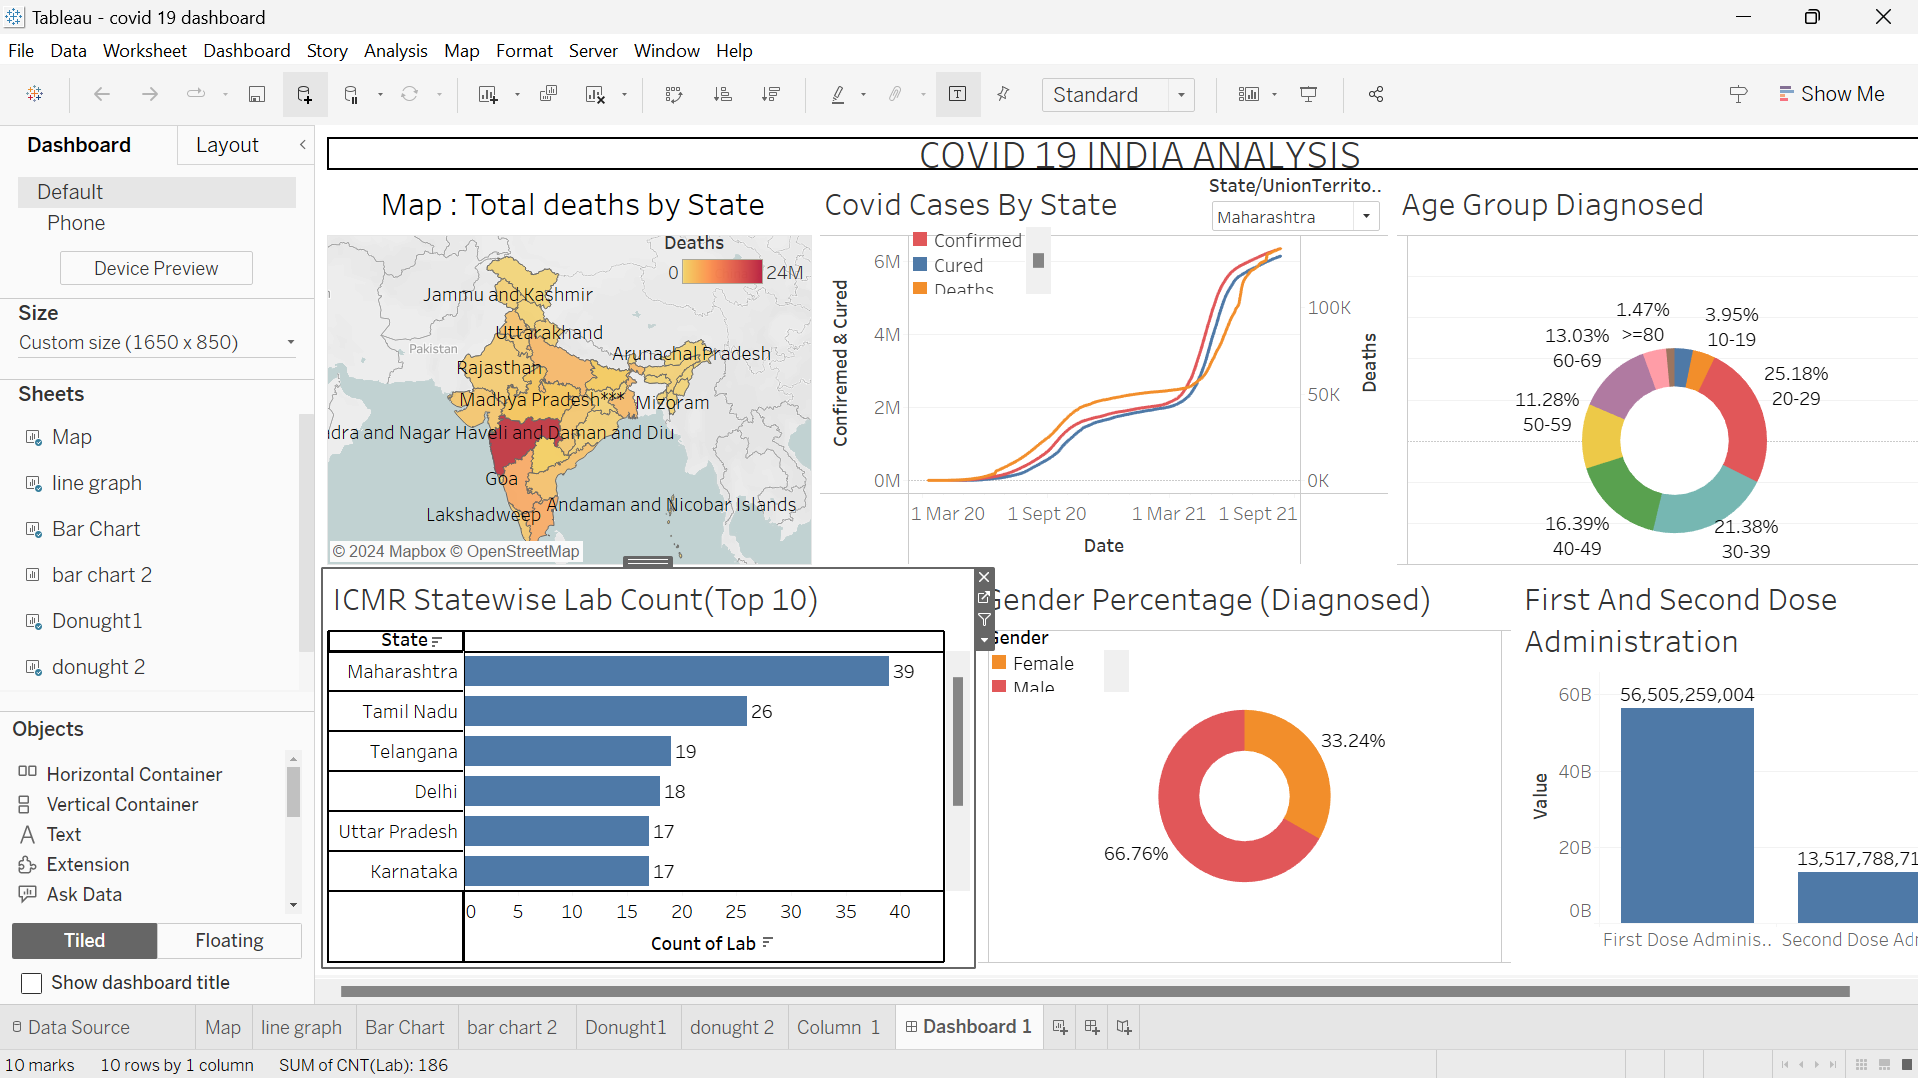

Layout of this report page (visuals, bound fields, positions):
{"tool":"tableau","page":{"name":"Dashboard 1","canvas":[1650,850],"ordinal":0},"visuals":[{"type":"title","box":[8,8,1634,41]},{"type":"filter","title":"line graph","param":"[federated.126jqgq0ev86vi1f24e5f19d8j1v].[none:State/UnionTerritory:nk]","box":[894,47,174,65]},{"type":"worksheet","title":"Map","mark":"Automatic","box":[8,49,492.5,394.6]},{"type":"worksheet","title":"line graph","mark":"Automatic","rows":["Deaths"],"cols":["Date"],"box":[500.5,49,577.5,394.6]},{"type":"worksheet","title":"Donught1","mark":"Pie","rows":["Calculation_1310266029302677515","Calculation_1310266029329895446"],"box":[1078,49,564,394.6]},{"type":"legend","title":"line graph","param":"[federated.126jqgq0ev86vi1f24e5f19d8j1v].[:Measure Names]","box":[593,102,145,67]},{"type":"legend","title":"Map","param":"[federated.126jqgq0ev86vi1f24e5f19d8j1v].[sum:Deaths:qk]","box":[349,104,145,93]},{"type":"worksheet","title":"Column  1","mark":"Automatic","rows":["state"],"cols":["lab"],"box":[8,443.6,651,398.4]},{"type":"worksheet","title":"donught 2","mark":"Pie","rows":["Calculation_1310266029306757137","Calculation_1310266029306888212"],"box":[659,443.6,542,398.4]},{"type":"worksheet","title":"Bar Chart","mark":"Automatic","box":[1201,443.6,441,398.4]},{"type":"legend","title":"donught 2","param":"[federated.0m48jh11fyimex1dy3usr07kqi0k].[none:gender:nk]","box":[672,499,144,68]}]}

Visuals, with their boxes on the page's 1650x850 design canvas (x1, y1, x2, y2). These are canvas units, not pixel positions in the 1918x1078 screenshot, which may show the page scaled, cropped or inside an application window:
title: 8, 8, 1642, 49
"line graph" filter: 894, 47, 1068, 112
"Map" worksheet: 8, 49, 500, 444
"line graph" worksheet: 500, 49, 1078, 444
"Donught1" worksheet (Pie marks): 1078, 49, 1642, 444
"line graph" legend: 593, 102, 738, 169
"Map" legend: 349, 104, 494, 197
"Column  1" worksheet: 8, 444, 659, 842
"donught 2" worksheet (Pie marks): 659, 444, 1201, 842
"Bar Chart" worksheet: 1201, 444, 1642, 842
"donught 2" legend: 672, 499, 816, 567
